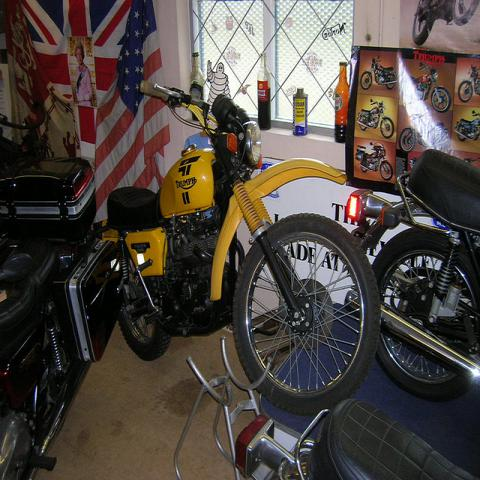motorcycle: (100, 77, 378, 418), (173, 337, 476, 479), (0, 136, 124, 472), (344, 143, 480, 396), (356, 98, 395, 140), (355, 140, 394, 180), (361, 56, 396, 90)
